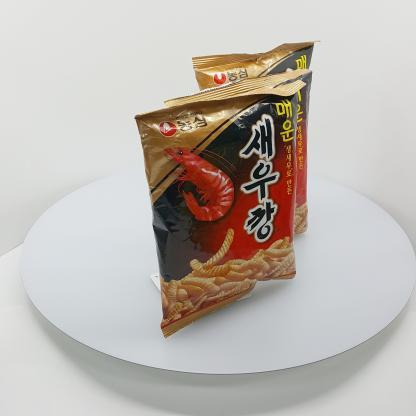Plastic Packaging: (128, 78, 312, 340)
